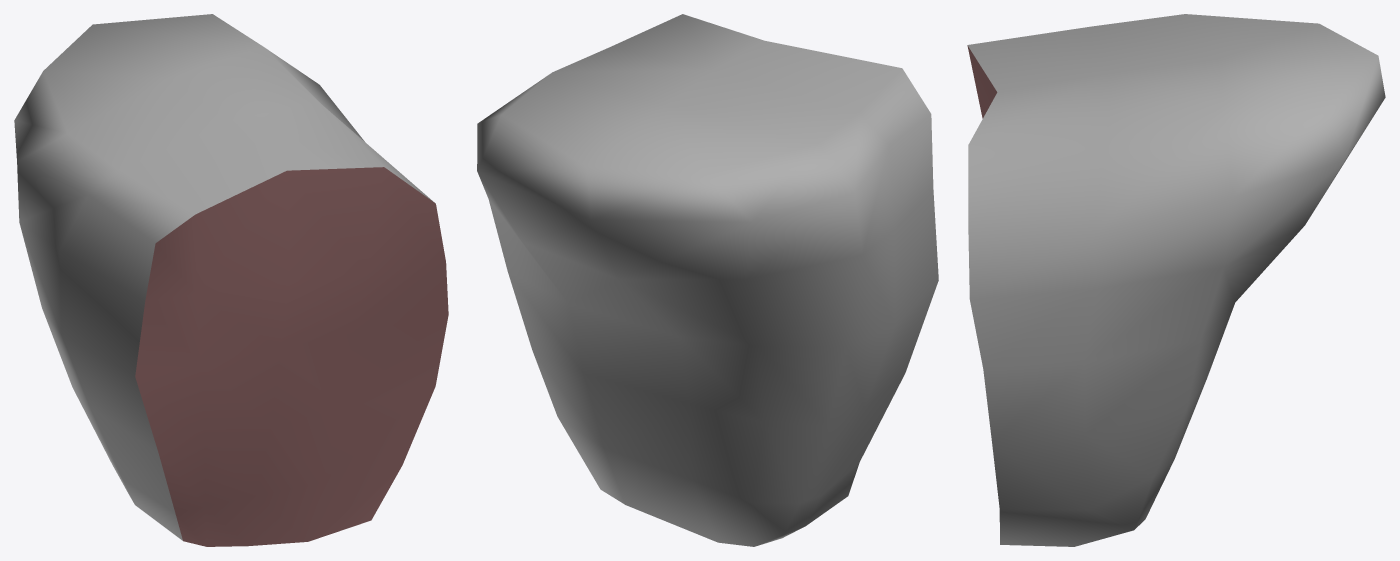
The picture shows the model from 3 angles, left to right: view 1: azimuth 30°, elevation 25°; view 2: azimuth 150°, elevation 25°; view 3: azimuth 270°, elevation 25°; orthographic projection. The views are drawn at different scales.
Visible parts, largest first — view 1: p4_2; view 2: p4_2; view 3: p4_2.
Boxes of the visible parts, x1,y1,x2,y2 form: p4_2: [14, 14, 448, 546]; p4_2: [477, 14, 938, 546]; p4_2: [967, 14, 1385, 546].
Size of the model in its own units: 6.37 by 7.6 by 6.31.
